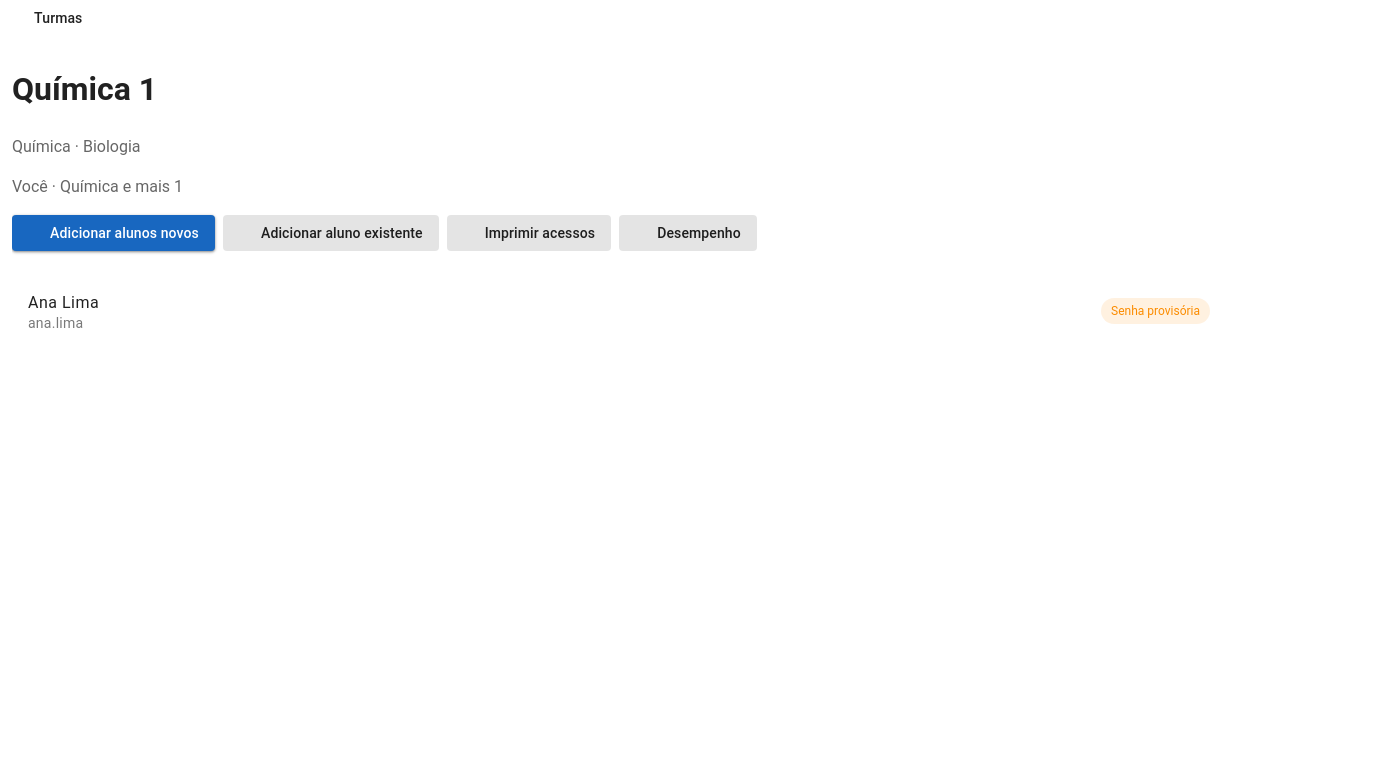
Test case: ClassroomPage › opens the search for an existing student
What coordinates should you click on to do the following:
click the button with test id "roster-add-existing"
I would click on:
 (331, 233)
Its box is [223,215,439,251].
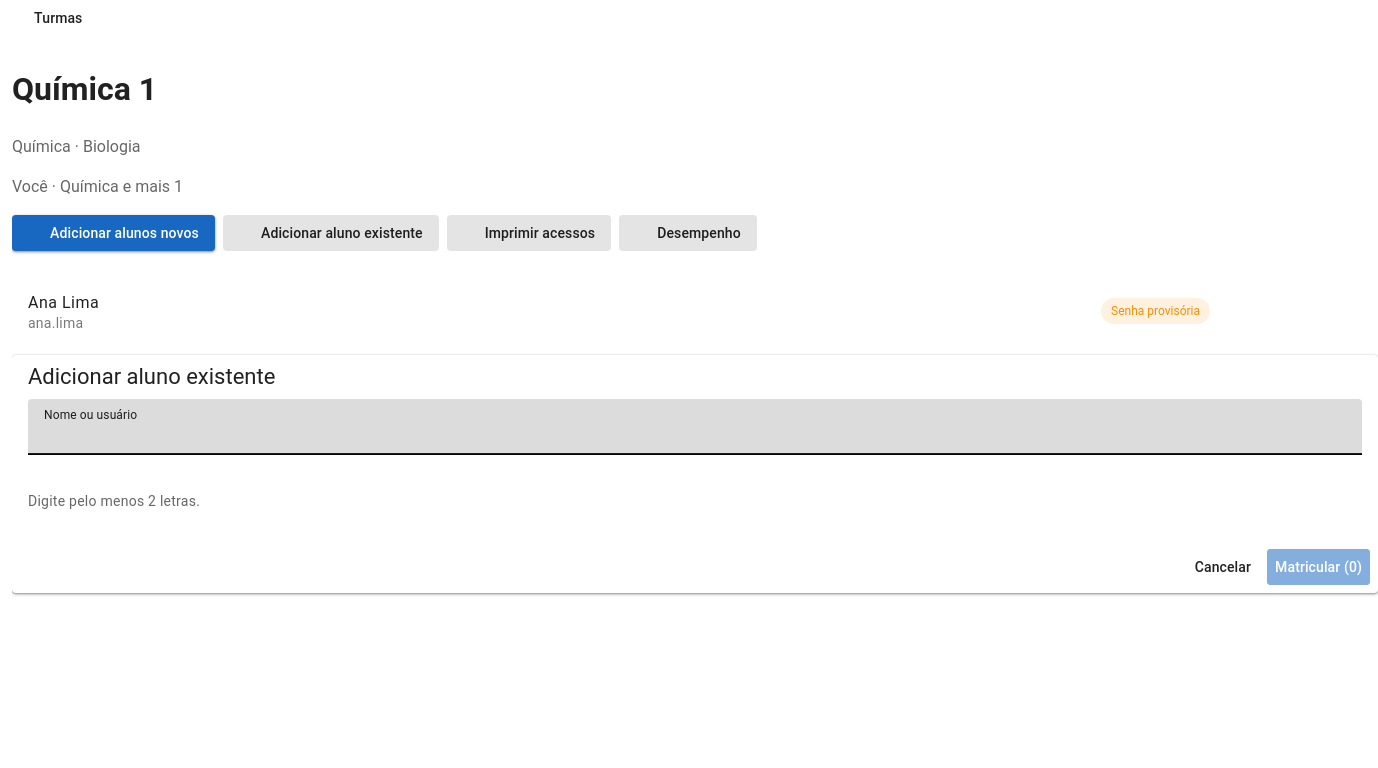
Expected: the element with test id "student-search" is shown, [12,355,1377,593]
